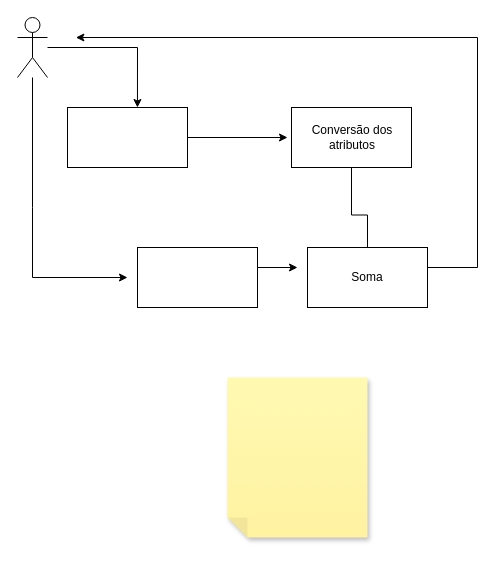
This 503x562 diagram has some shape labels left out. The shapes that lost their labels are listed below. From the top down, each one's centre as x and y in pixels, then its label:
(127,137): Input dos Atributos
(197,277): Rolagem dos dados
